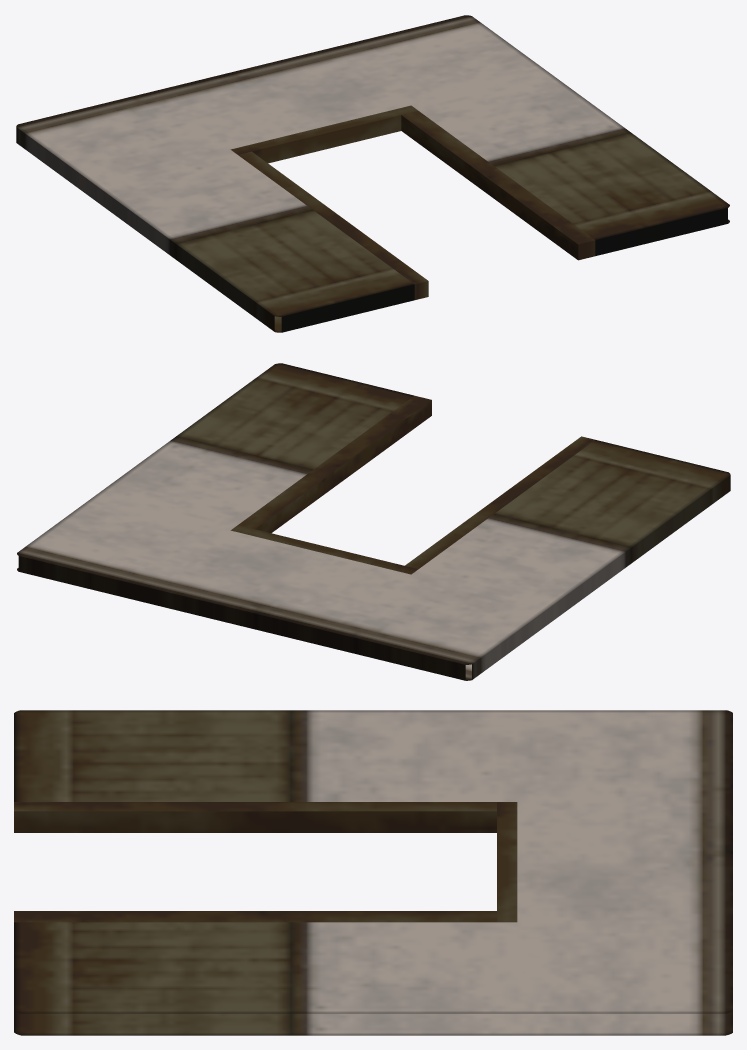
File: SM_EC_House_Wall_DoorWay_3x3_5.fbx
The picture shows the model from 3 angles, top to bottom: view 1: azimuth 30°, elevation 25°; view 2: azimuth 150°, elevation 25°; view 3: azimuth 270°, elevation 25°; orthographic projection. The views are drawn at different scales.
Parts seen in each view (by area): view 1: SM_EC_House_Wall_DoorWay_3x3_5; view 2: SM_EC_House_Wall_DoorWay_3x3_5; view 3: SM_EC_House_Wall_DoorWay_3x3_5.
Part boxes in pixels (left/top/right/bottom): SM_EC_House_Wall_DoorWay_3x3_5: left=16, top=15, right=729, bottom=332; SM_EC_House_Wall_DoorWay_3x3_5: left=17, top=363, right=730, bottom=680; SM_EC_House_Wall_DoorWay_3x3_5: left=14, top=710, right=732, bottom=1035.
Size of the model in its own units: 3 by 3 by 0.1.
